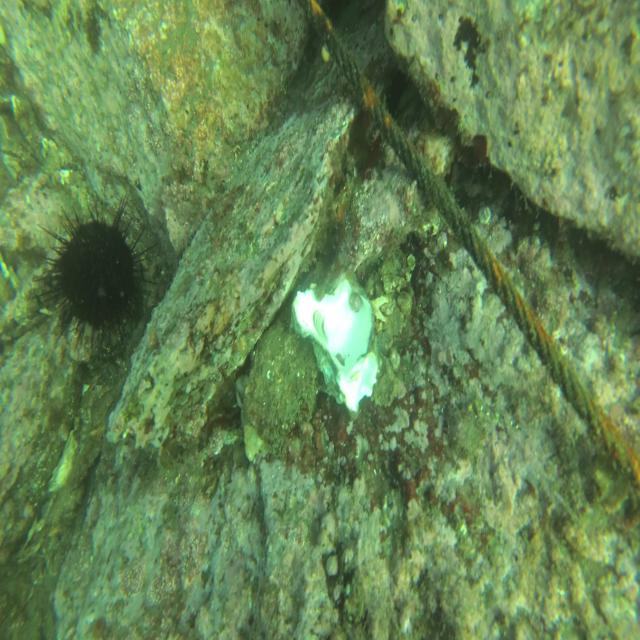echinus: (38, 199, 149, 354)
